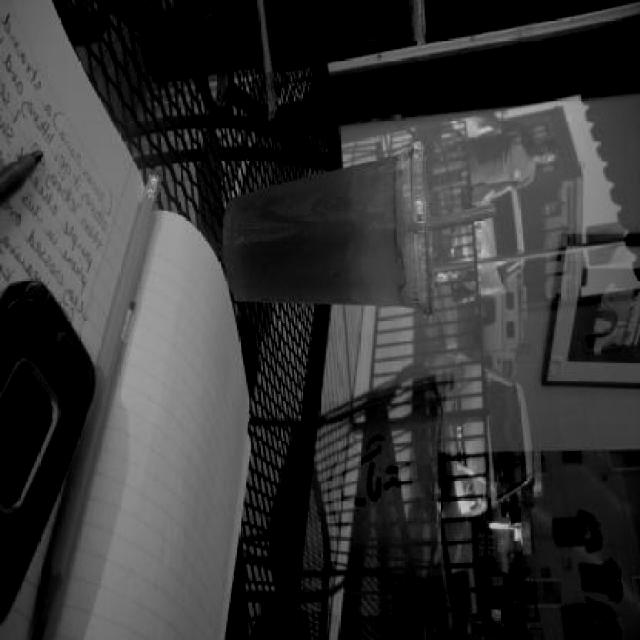fake: (0, 278, 97, 512)
